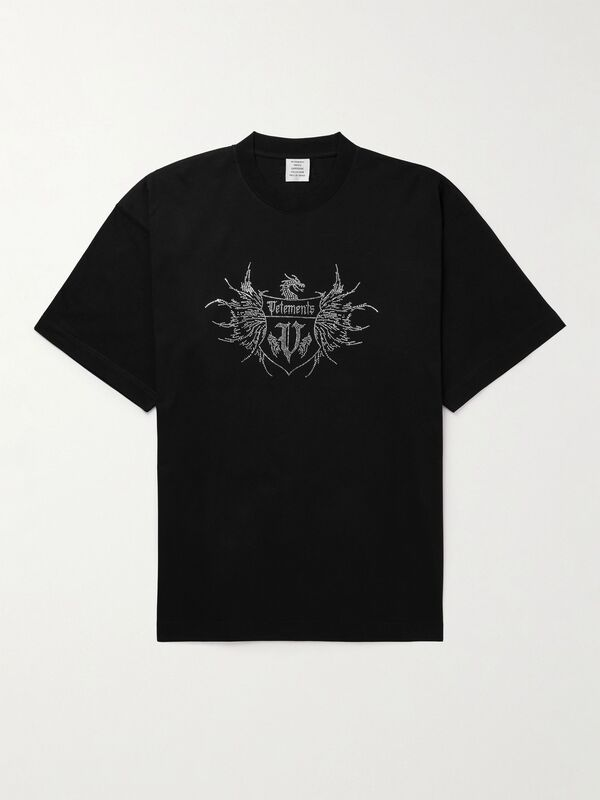tshirt: (27, 126, 564, 645)
